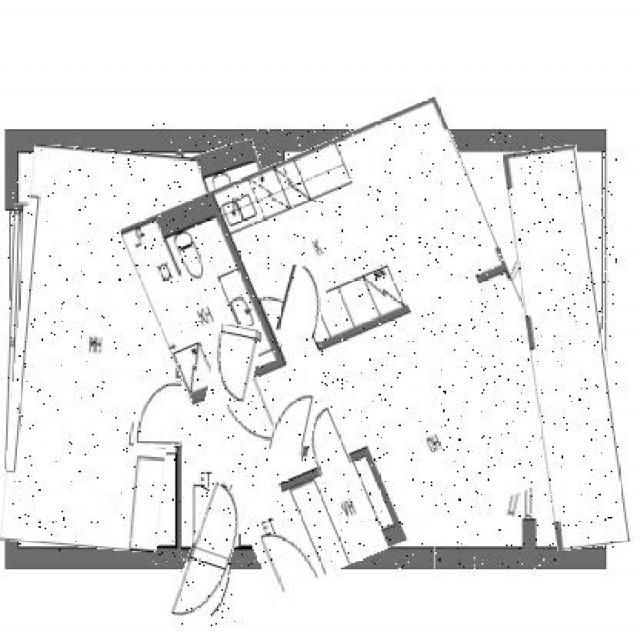door: (151, 123, 558, 569), (9, 148, 183, 550), (517, 146, 618, 549), (171, 145, 292, 329)
window: (180, 480, 242, 626), (208, 326, 258, 409), (279, 266, 326, 337), (136, 378, 182, 448), (271, 388, 315, 460)
zone: (8, 203, 29, 482), (514, 346, 543, 519), (510, 185, 544, 306)
